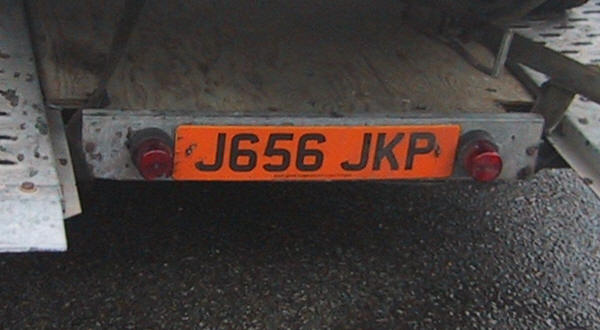license_plate: (171, 125, 460, 182)
